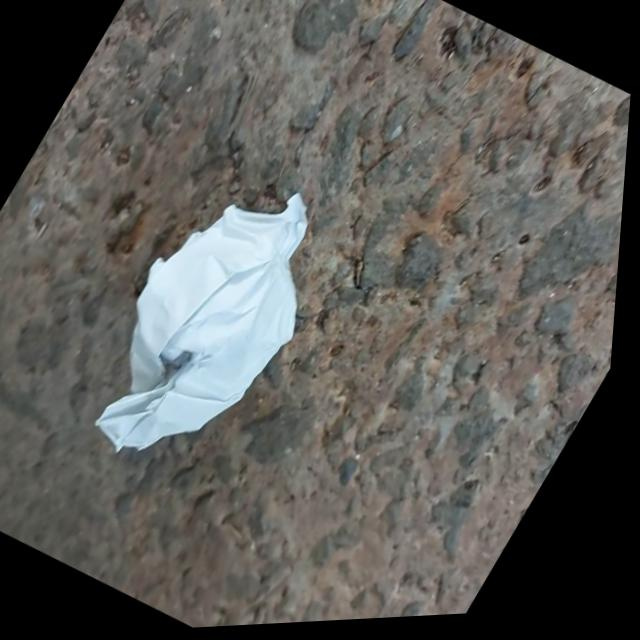paper: (96, 194, 306, 450)
